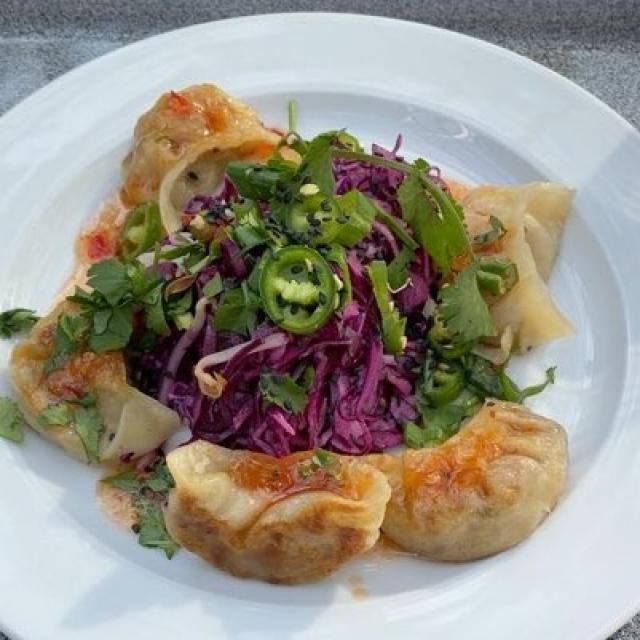cabbage: (123, 131, 450, 445)
